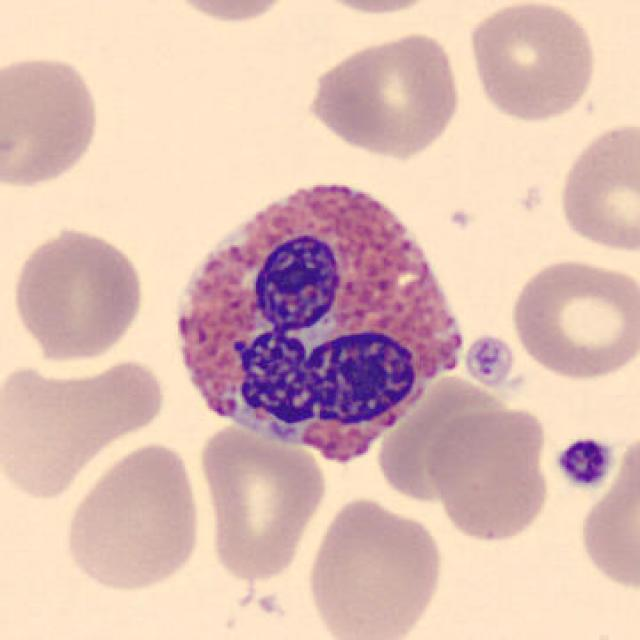Eosinophil: (160, 158, 476, 480)
Platelets: (555, 434, 615, 492), (462, 333, 516, 386)
RBC: (59, 439, 206, 596), (194, 420, 329, 584), (302, 28, 466, 160), (302, 493, 448, 640), (7, 222, 149, 365), (423, 402, 553, 545), (464, 0, 601, 125), (505, 254, 638, 382), (0, 49, 105, 192), (553, 118, 638, 256), (572, 428, 640, 598), (156, 0, 303, 26), (299, 0, 448, 18)
